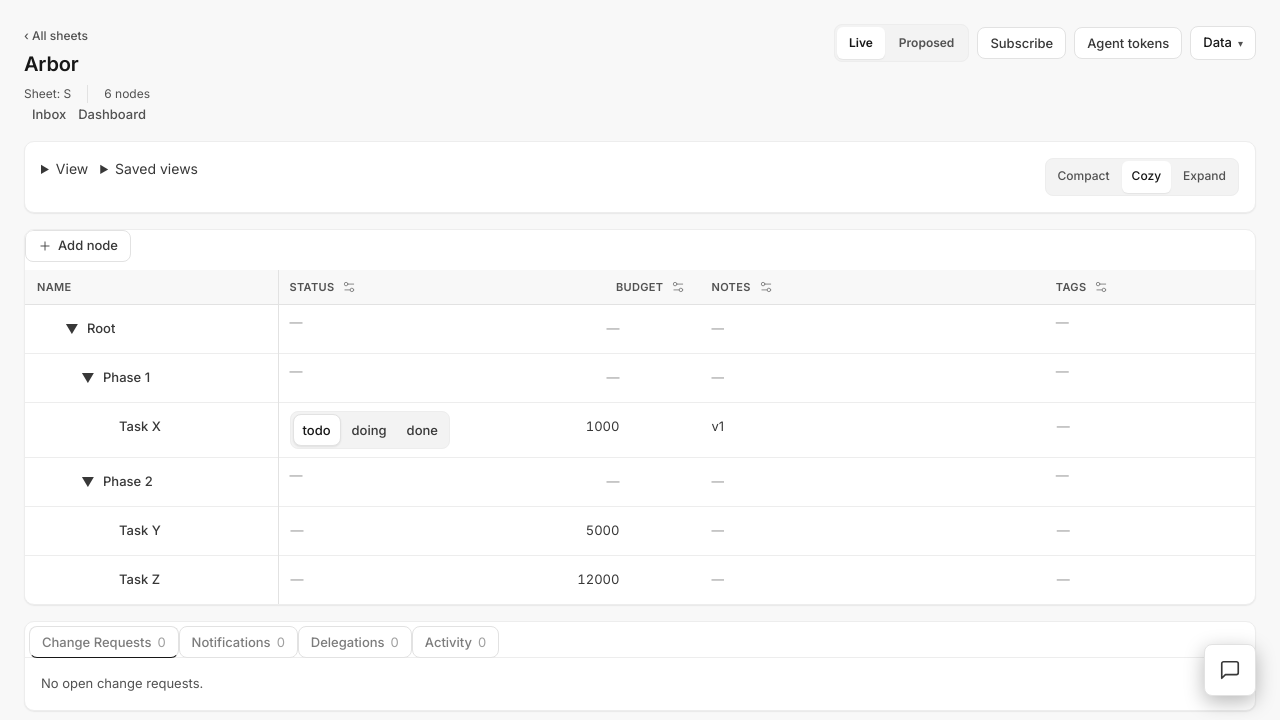
network failure & serialization (WEB_UI-025/-087) › a network error reverts the optimistic value and shows an error banner (WEB_UI-087)
Expected: the table with test id "tree-table" is shown, 25,270 -> 1255,604
Click the element with test id "cell" showing "v1" at (718, 426), box 712,418 -> 724,434
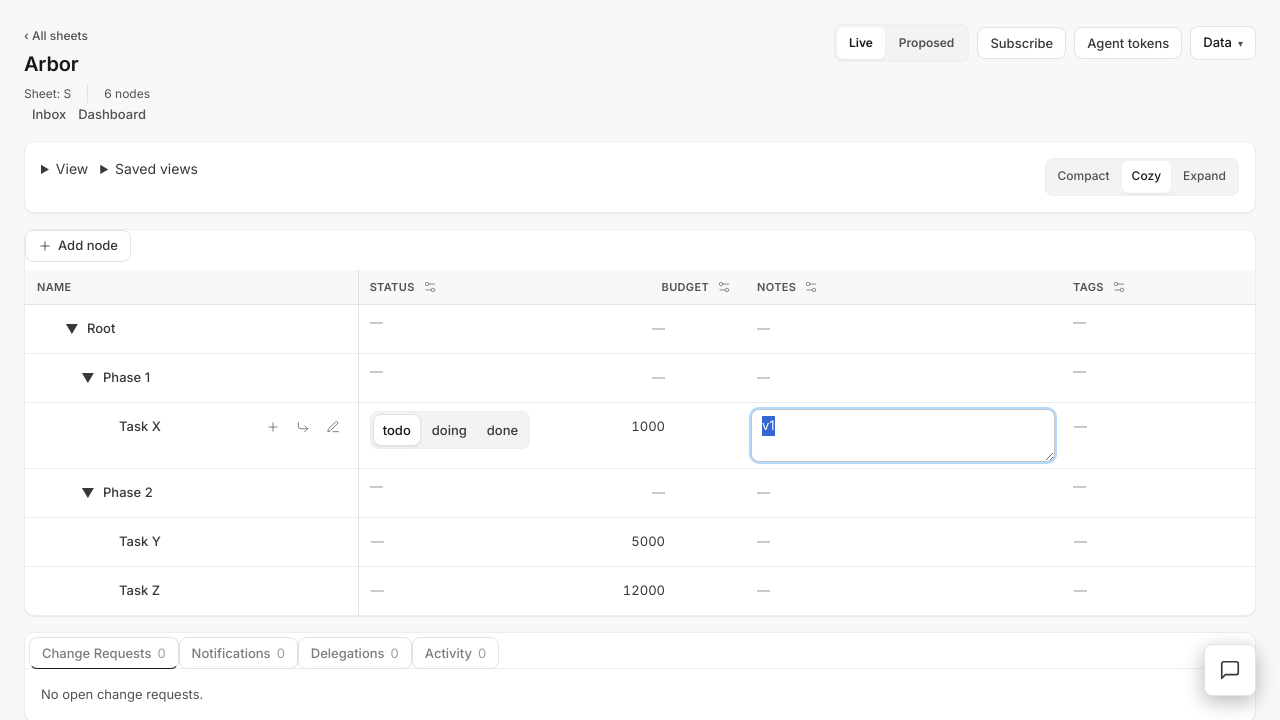
Replace the text in the text box with test id "cell-input" with "will fail" at (903, 436), box 751,409 -> 1055,462
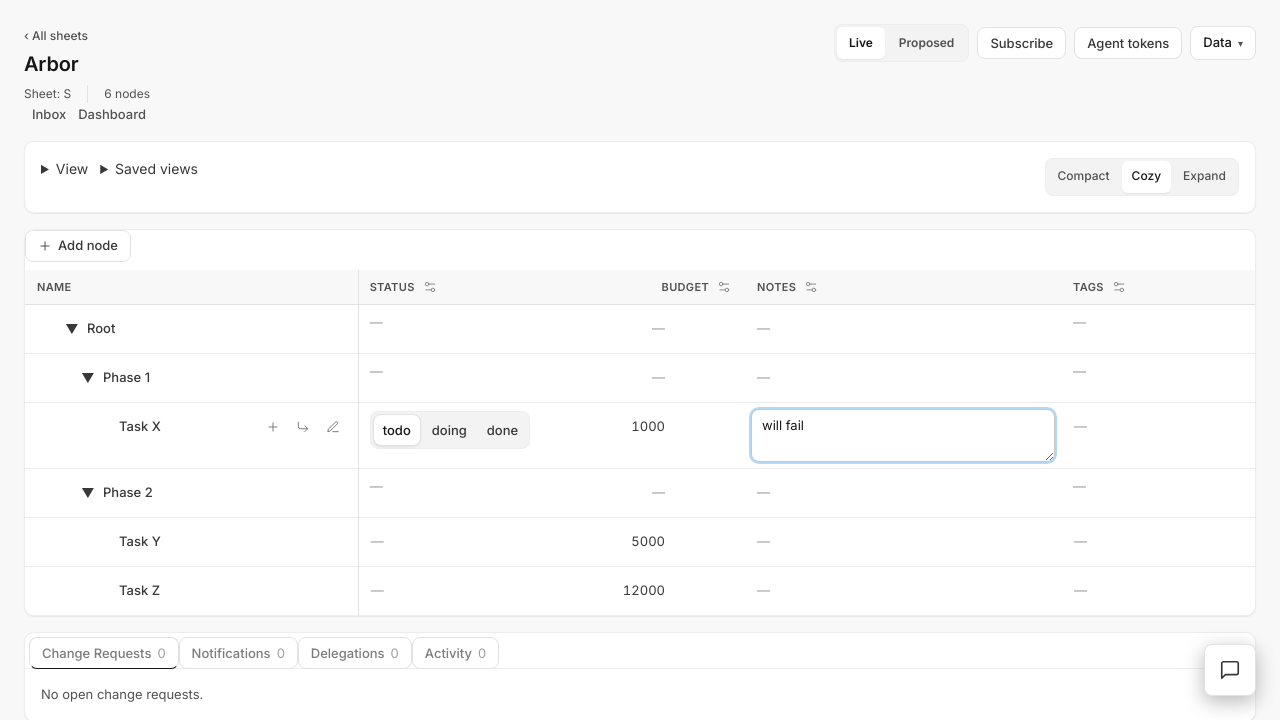
Leave the text box with test id "cell-input", box 751,409 -> 1055,462
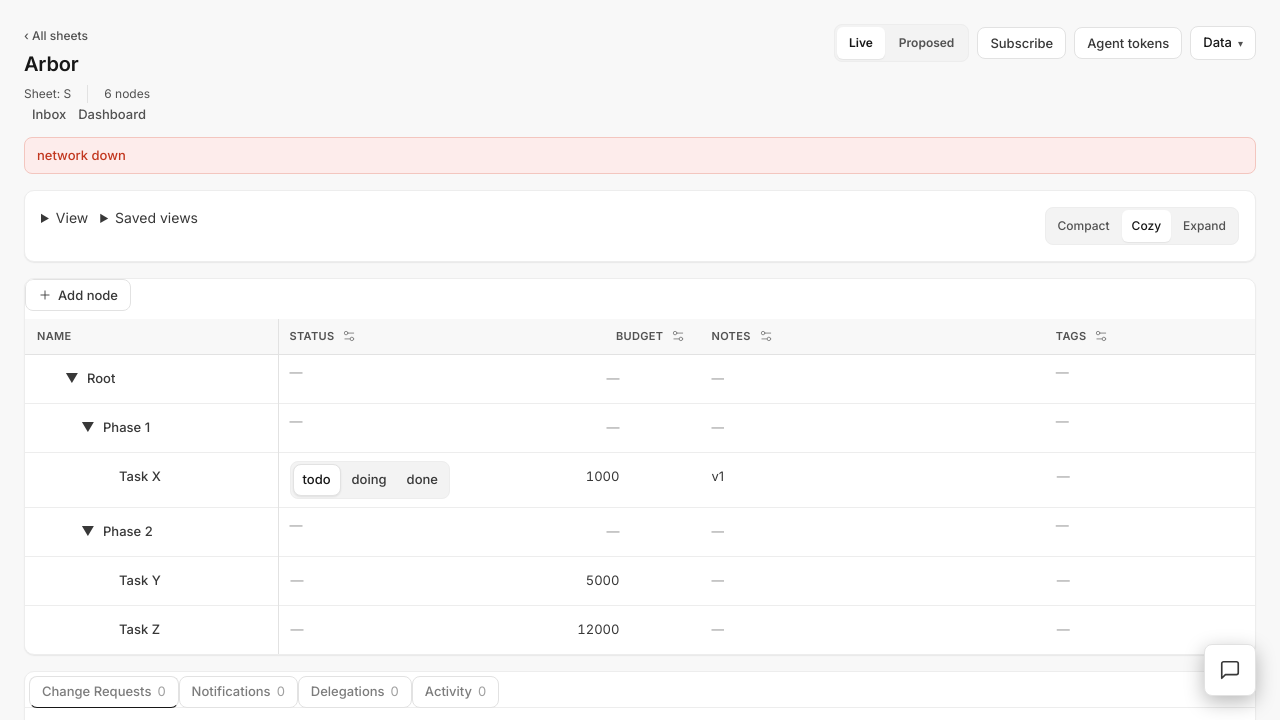
Expected: the element with test id "cell" does not show "will fail", 712,468 -> 724,484
Result: the message with test id "banner" reads "network down" at 37,146 -> 126,162
Result: the element with test id "cell" reads "v1" at 712,468 -> 724,484
